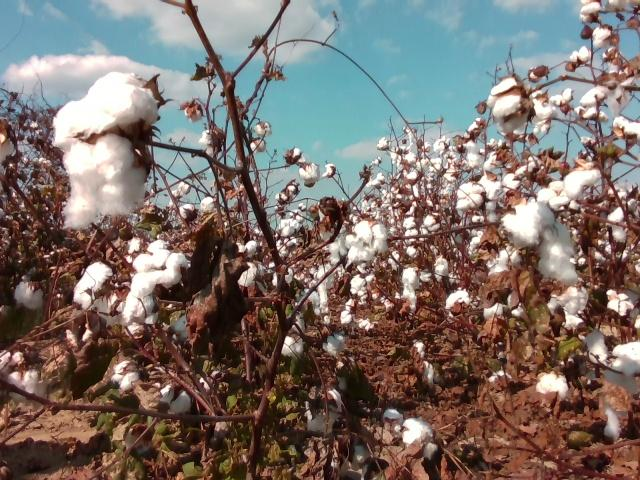cotton_ready: (53, 70, 160, 228), (501, 201, 578, 287), (121, 238, 188, 297), (97, 282, 160, 340), (585, 330, 640, 394), (580, 60, 640, 116), (73, 262, 122, 326), (0, 349, 50, 409), (487, 76, 532, 136), (345, 220, 389, 265), (547, 286, 589, 330), (331, 436, 373, 480), (305, 389, 344, 436), (235, 240, 267, 288), (401, 417, 436, 460), (152, 380, 191, 414), (563, 168, 602, 198), (111, 360, 145, 393), (536, 180, 577, 207), (14, 279, 46, 311), (317, 263, 337, 314), (528, 90, 557, 122), (536, 372, 569, 399), (607, 289, 640, 316), (457, 181, 485, 211), (613, 117, 640, 146), (402, 265, 419, 309), (499, 248, 527, 272), (604, 404, 621, 441), (199, 129, 221, 157), (322, 333, 346, 358), (479, 174, 502, 200), (593, 24, 615, 50), (173, 313, 192, 341), (281, 334, 304, 357), (382, 408, 404, 432), (580, 0, 601, 24), (0, 131, 14, 166), (445, 290, 470, 309), (550, 87, 573, 107), (298, 163, 320, 181), (570, 46, 592, 63)
